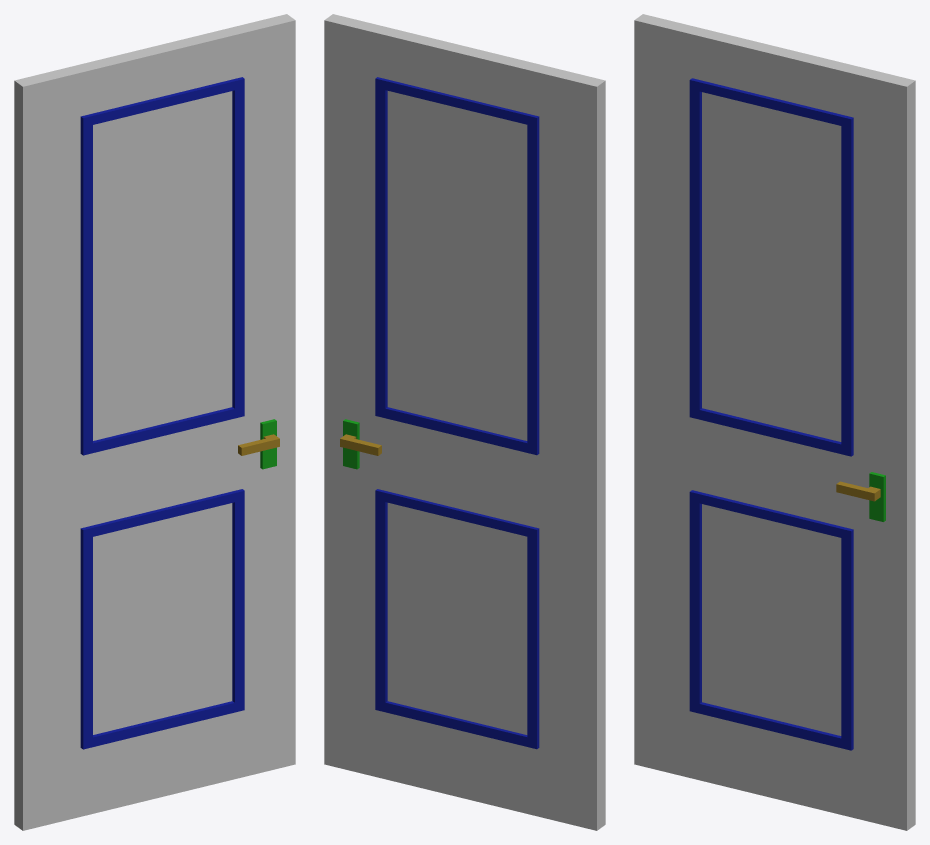
The model's file is Door_c_R.fbx.
3 renders of one model, left to right at view 1: azimuth 30°, elevation 25°; view 2: azimuth 150°, elevation 25°; view 3: azimuth 330°, elevation 25°, orthographic.
Parts seen in each view (by area): view 1: Door_c_R; view 2: Door_c_R; view 3: Door_c_R.
Boxes of the visible parts, x1,y1,x2,y2 form: Door_c_R: (14, 14, 295, 830); Door_c_R: (324, 14, 605, 830); Door_c_R: (634, 14, 915, 830).
Bounding box in the file's own units: 0.8 × 0.1291 × 2.09.
